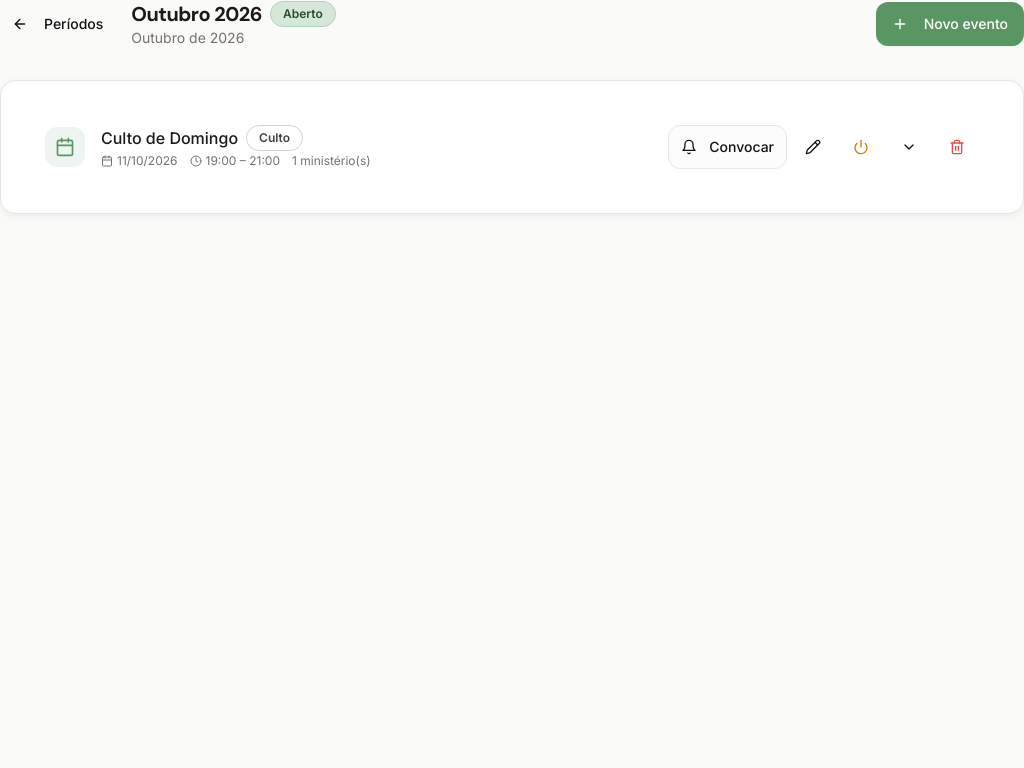
EscalasPeriodoDetalhe — "Selecionar todos" no modal Convocar › desmarcar todos: volta todos os selecionáveis a zero
Check: the text "Culto de Domingo" is shown, box [101,126,238,150]
Click the button "Convocar" at [728, 147], box [668,125,787,169]
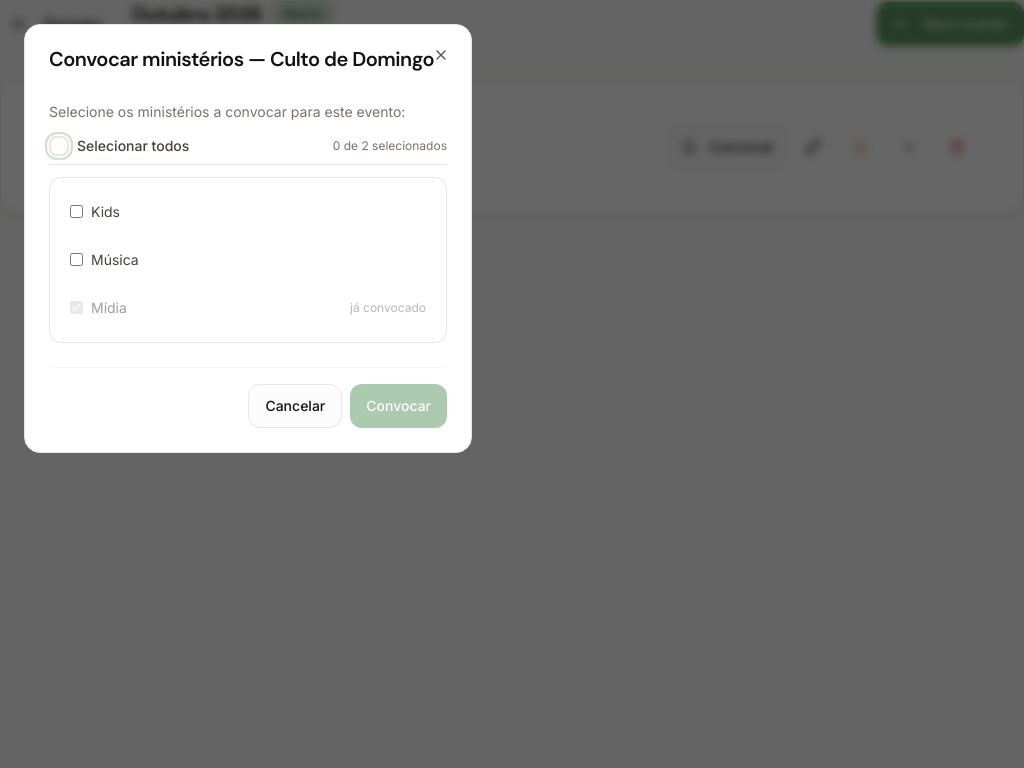
Check: the heading "Convocar ministérios — Culto de Domingo" is shown, box [49,49,447,69]
Click the checkbox named "selecionar todos" at [59, 146], box [49,136,69,156]
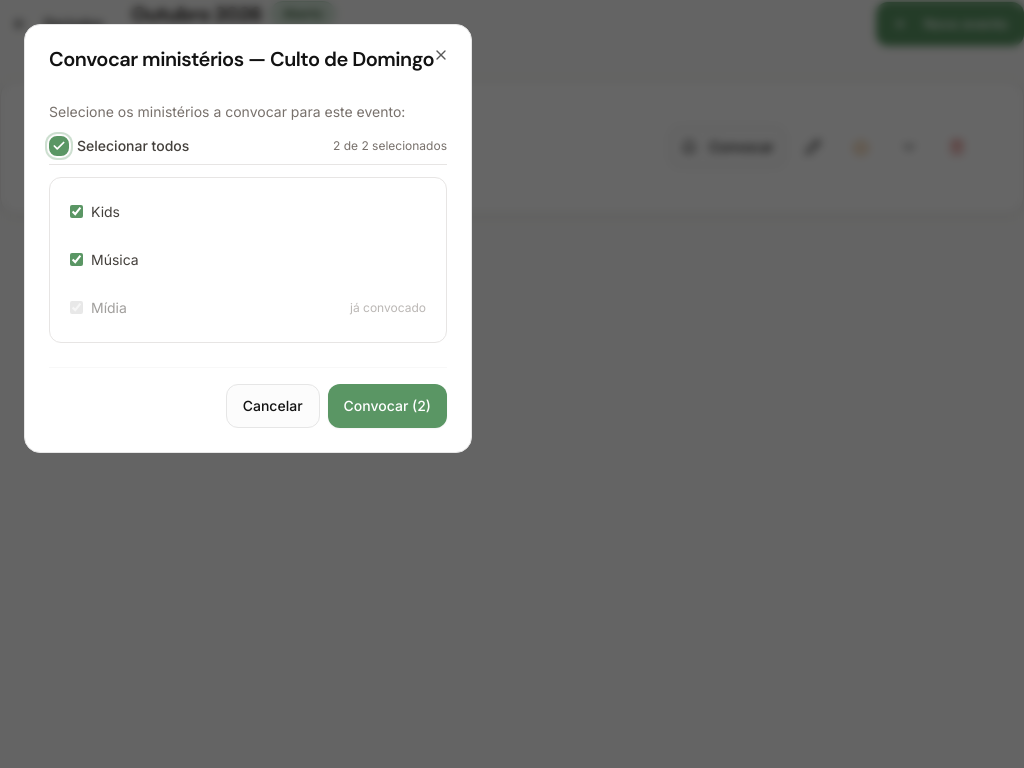
Click the checkbox named "selecionar todos" at [59, 146], box [49,136,69,156]
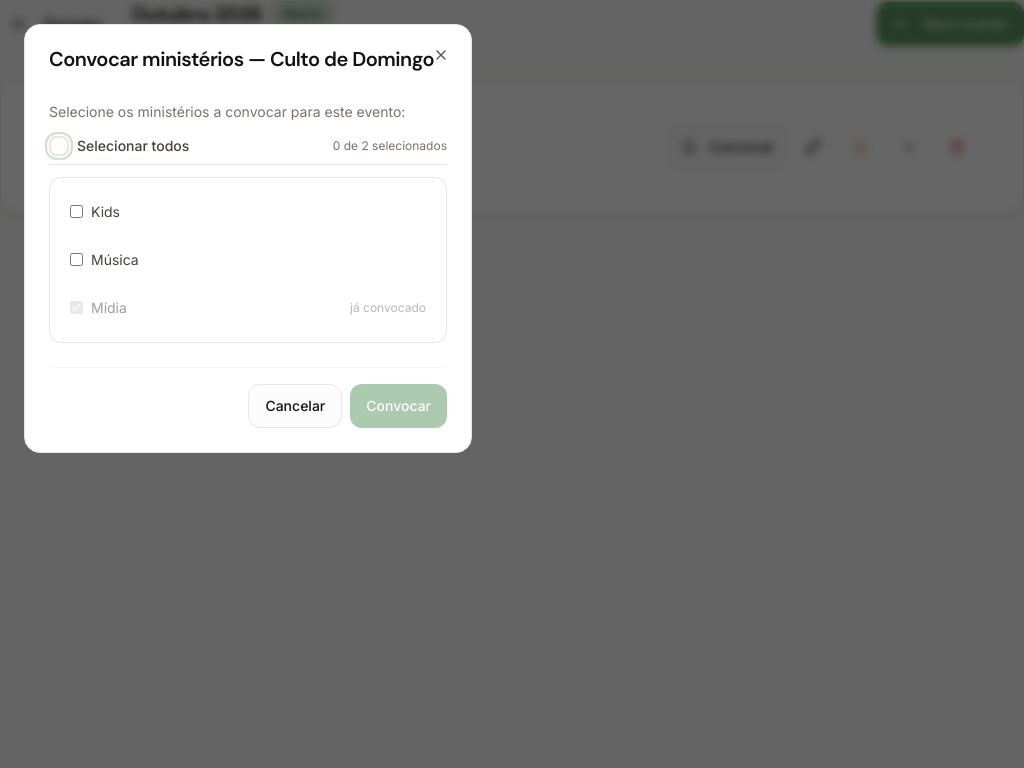
Check: the text "0 de 2 selecionados" is shown, box [333,138,447,154]
Check: the checkbox labelled "Kids" is not checked, box [70,205,83,218]
Check: the checkbox labelled "Música" is not checked, box [70,253,83,266]
